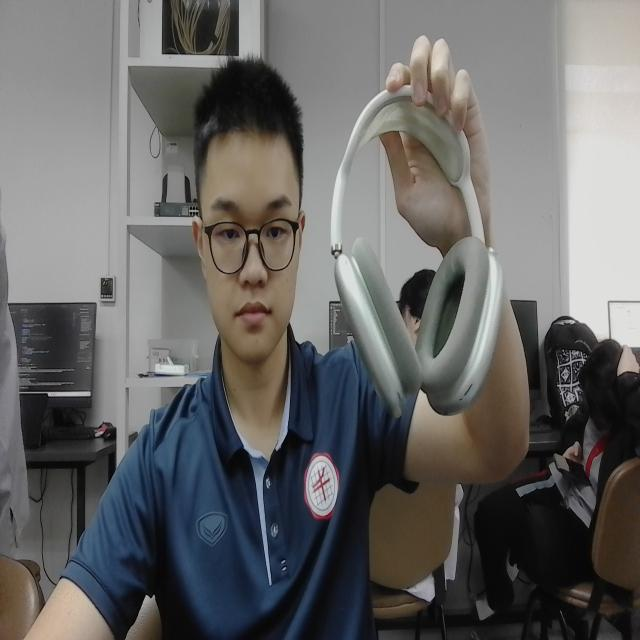airpods max: (322, 72, 511, 428)
